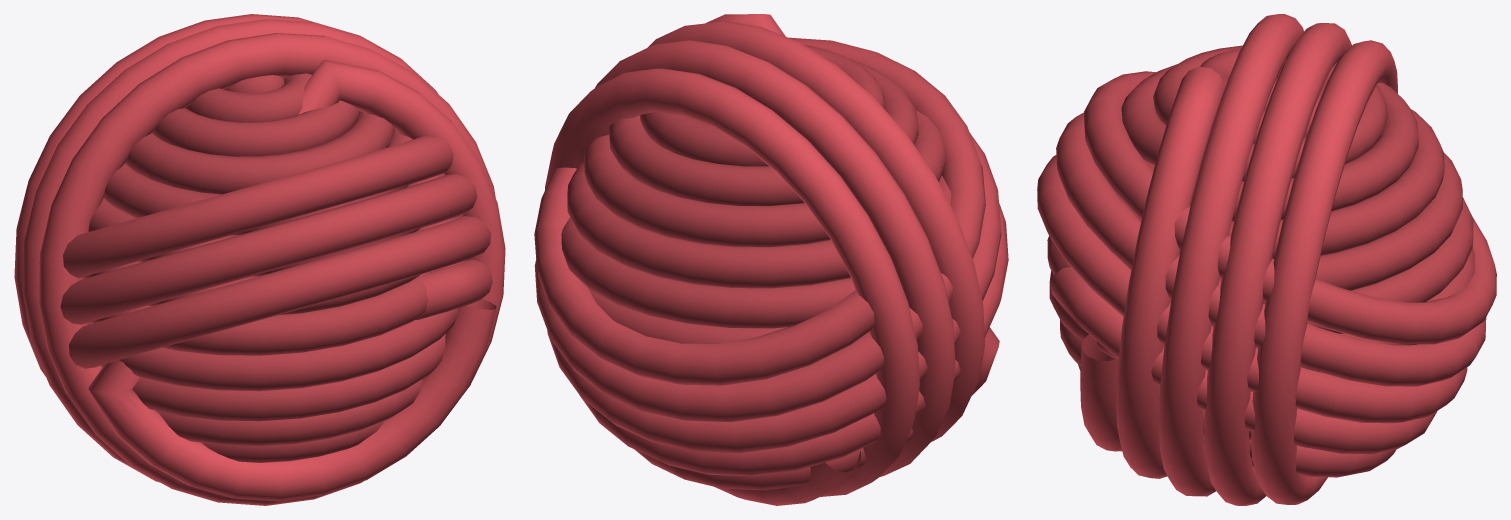
File: yarn.fbx
3 views of the same model, side by side, from view 1: azimuth 30°, elevation 25°; view 2: azimuth 150°, elevation 25°; view 3: azimuth 270°, elevation 25° (orthographic).
Visible parts, largest first — view 1: Spiral.003, Spiral.001, Spiral.002; view 2: Spiral.003, Spiral.002, Spiral.001; view 3: Spiral.003, Spiral.002, Spiral.001.
Part boxes in pixels (box(x1,y1,x2,y2)): Spiral.003: box(14, 14, 505, 505); Spiral.001: box(82, 73, 470, 462); Spiral.002: box(39, 136, 492, 368); Spiral.003: box(545, 14, 999, 505); Spiral.002: box(534, 37, 1008, 490); Spiral.001: box(561, 45, 951, 343); Spiral.003: box(1080, 14, 1397, 505); Spiral.002: box(1037, 71, 1496, 477); Spiral.001: box(1047, 45, 1474, 466).
Bounding box in the file's own units: 255 × 254 × 237.
